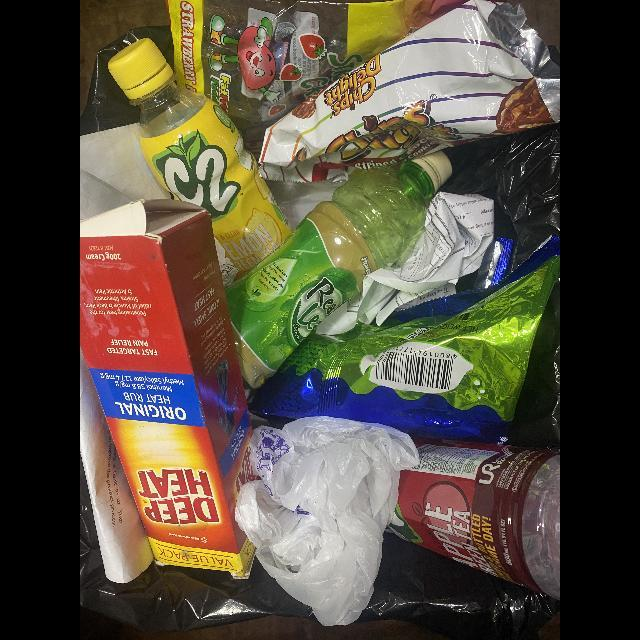paper: (80, 198, 261, 579), (314, 190, 494, 335)
plastic: (228, 149, 454, 400), (106, 37, 291, 290), (234, 417, 420, 626), (387, 440, 560, 605)
wrapper: (250, 235, 559, 444), (257, 0, 559, 182), (167, 0, 458, 164)
